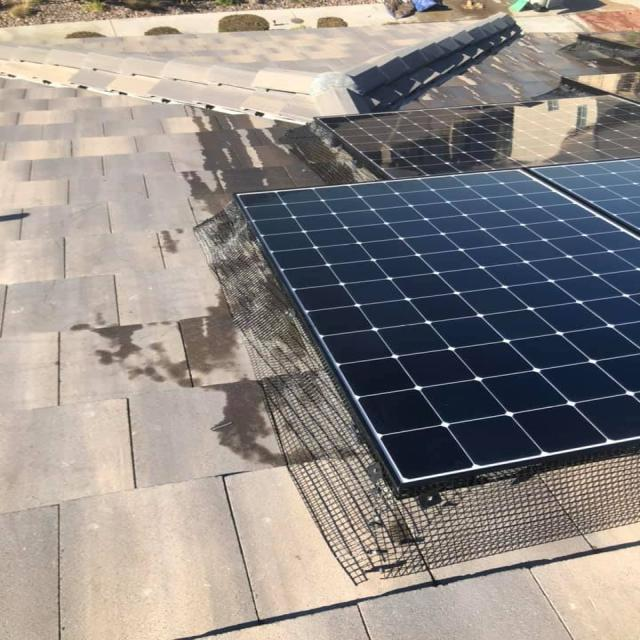clean-solar-panel: (237, 159, 637, 489)
